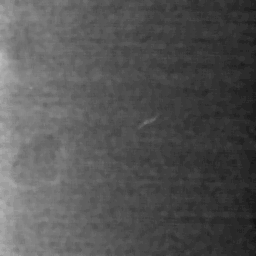sct: (136, 112, 162, 135)
